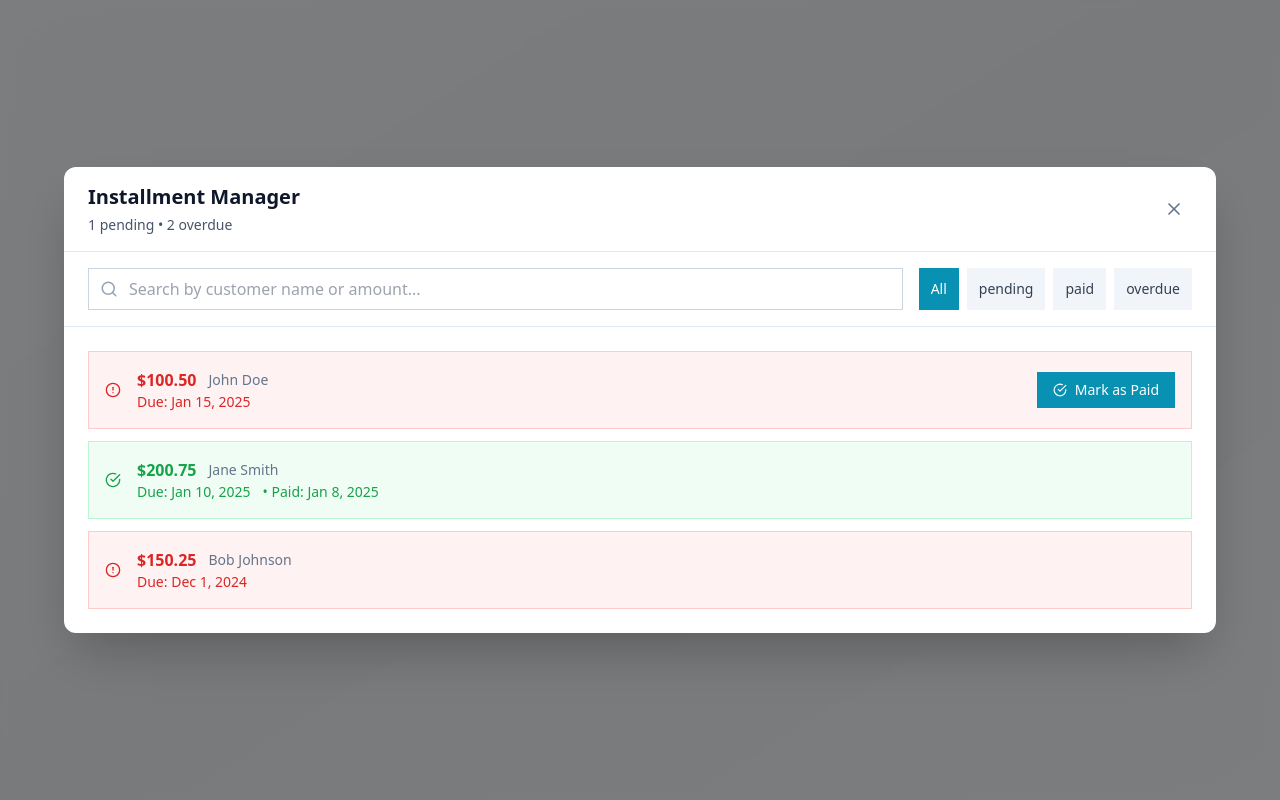
Test: InstallmentManager › Filtering › filters by status
The image size is (1280, 800).
Expected: the text "John Doe" is shown, [208,370,268,390]
Expected: the text "Jane Smith" is shown, [208,460,278,480]
Click the button "paid" at coordinates (1080, 289), box [1054,268,1106,310]
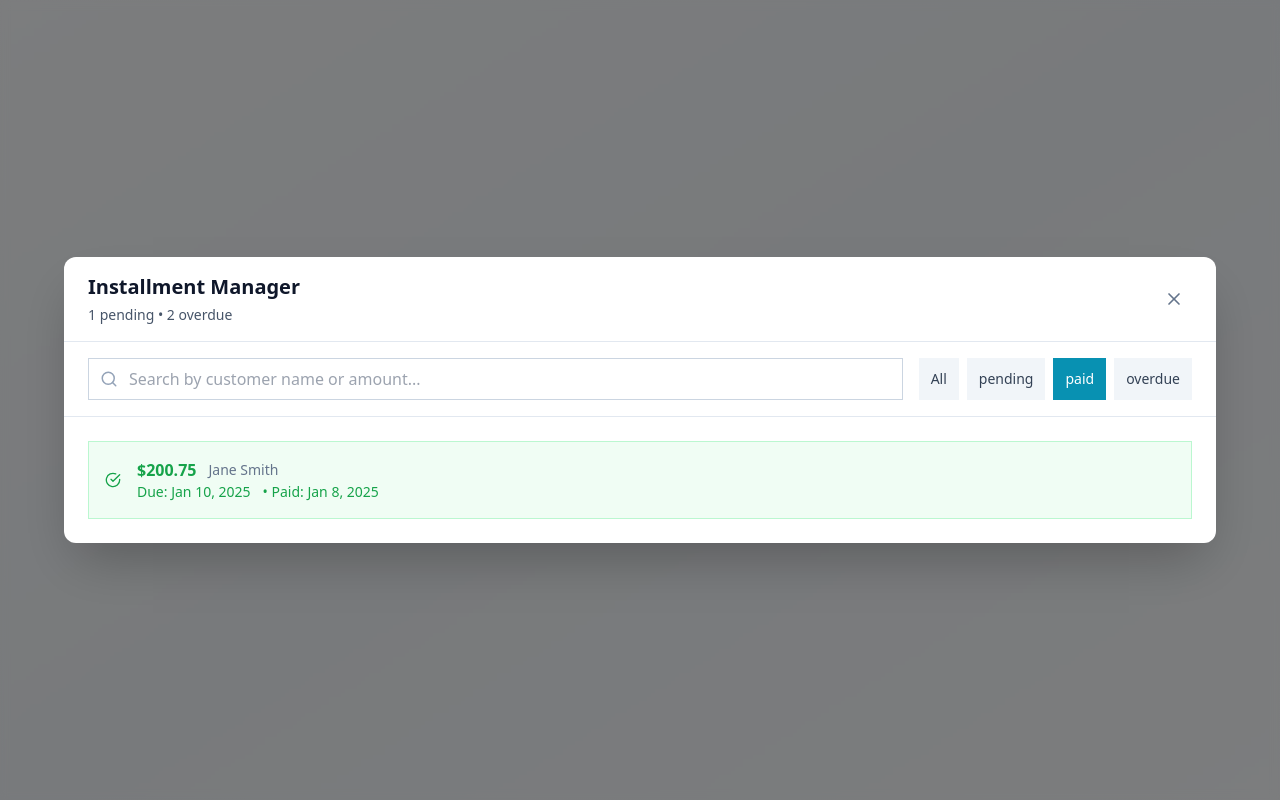
Expected: the text "Jane Smith" is shown, [208,460,278,480]
Expected: the text "John Doe" is gone
Expected: the text "Bob Johnson" is gone
